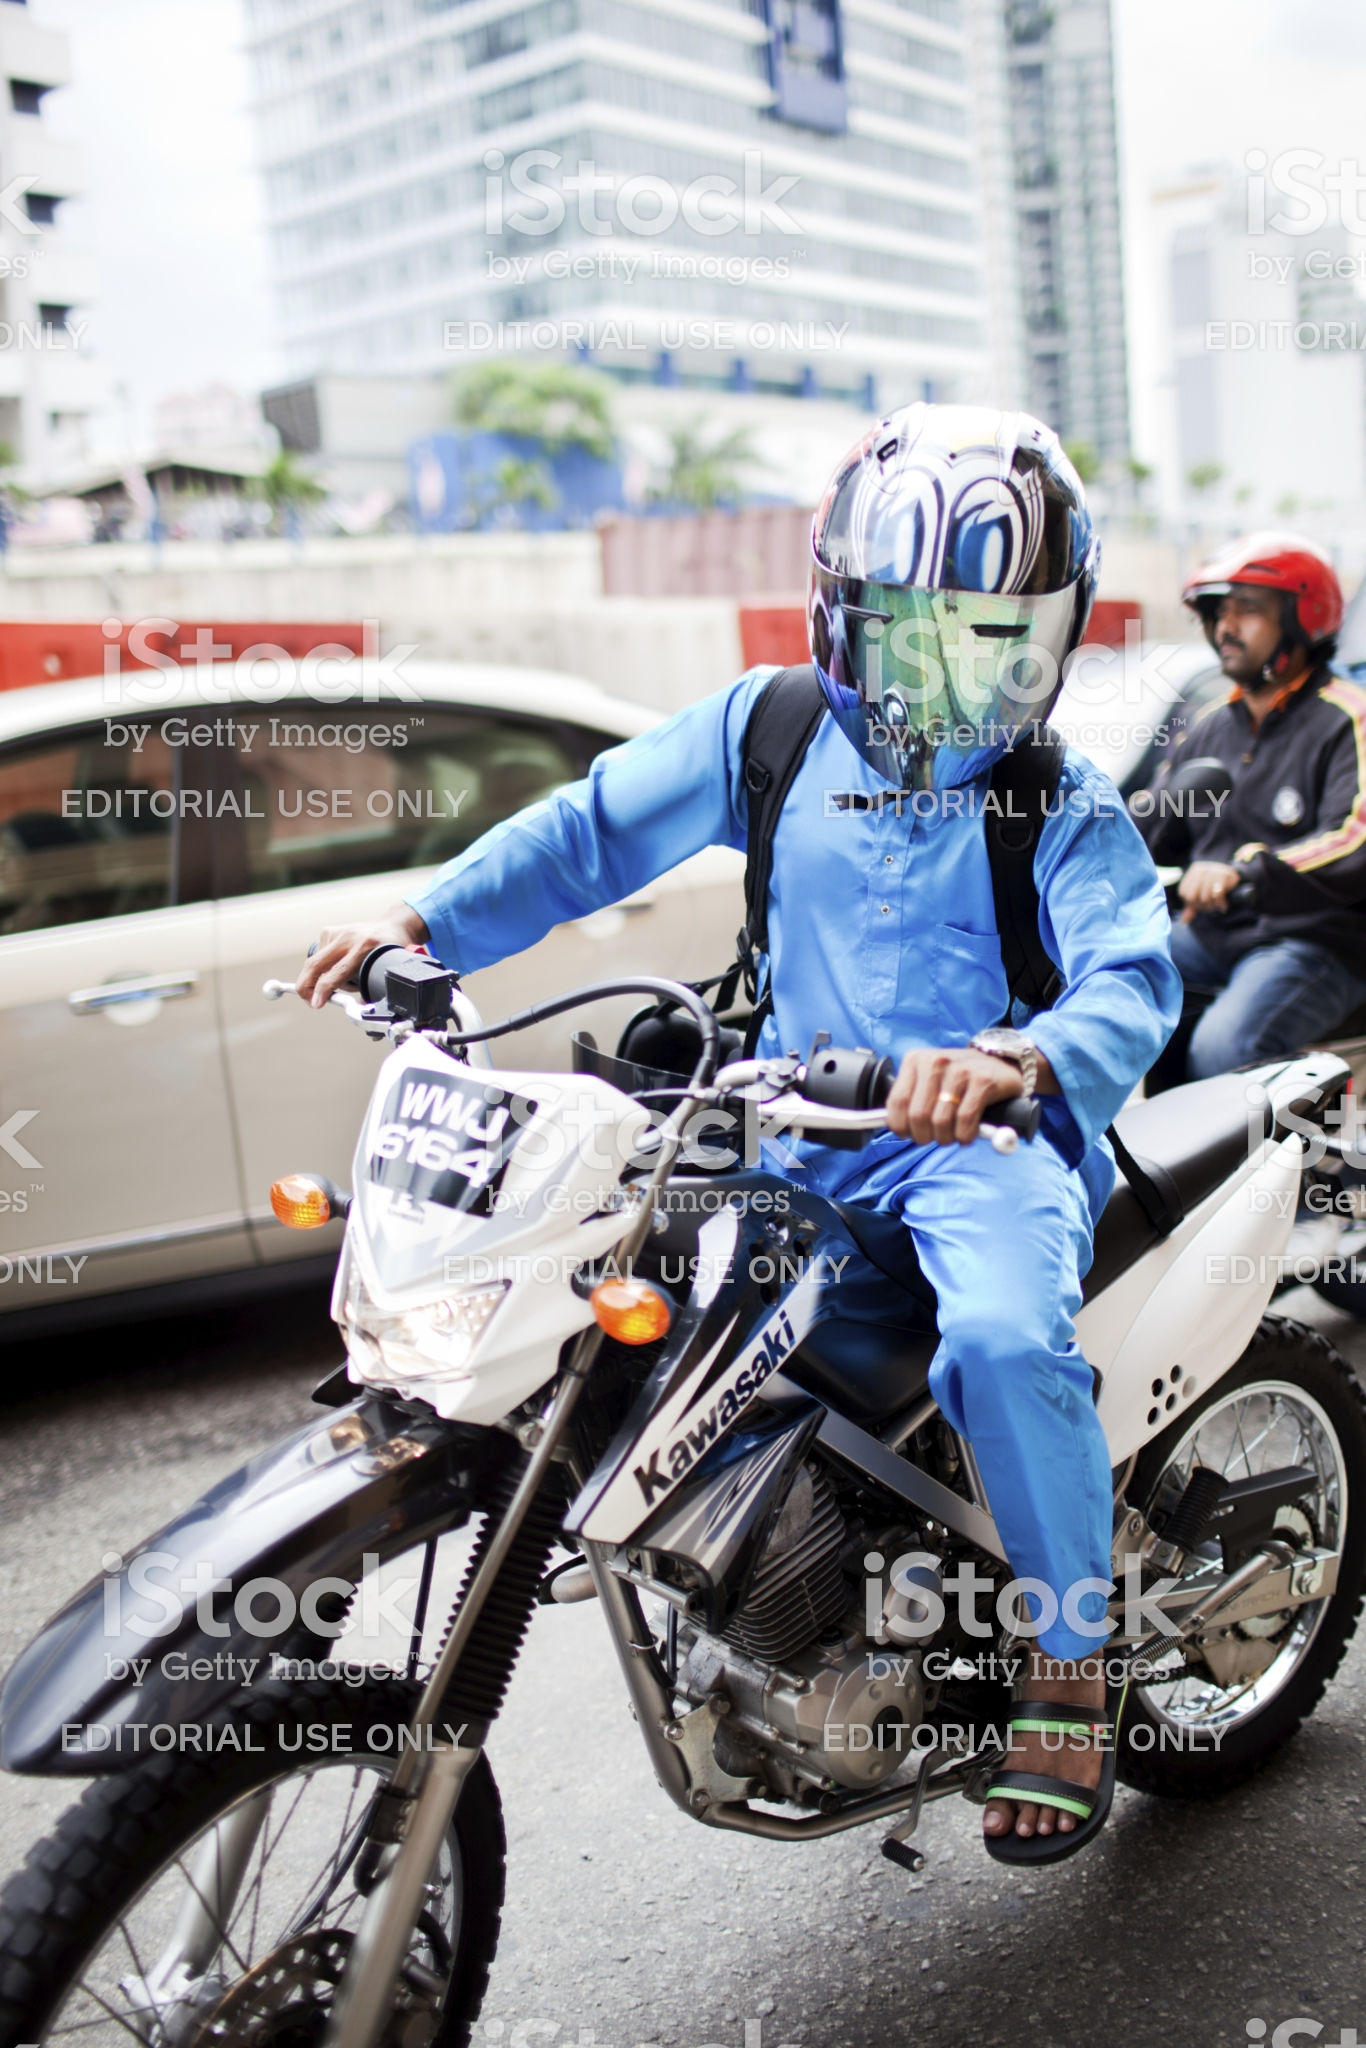helmet: (800, 398, 1085, 779)
